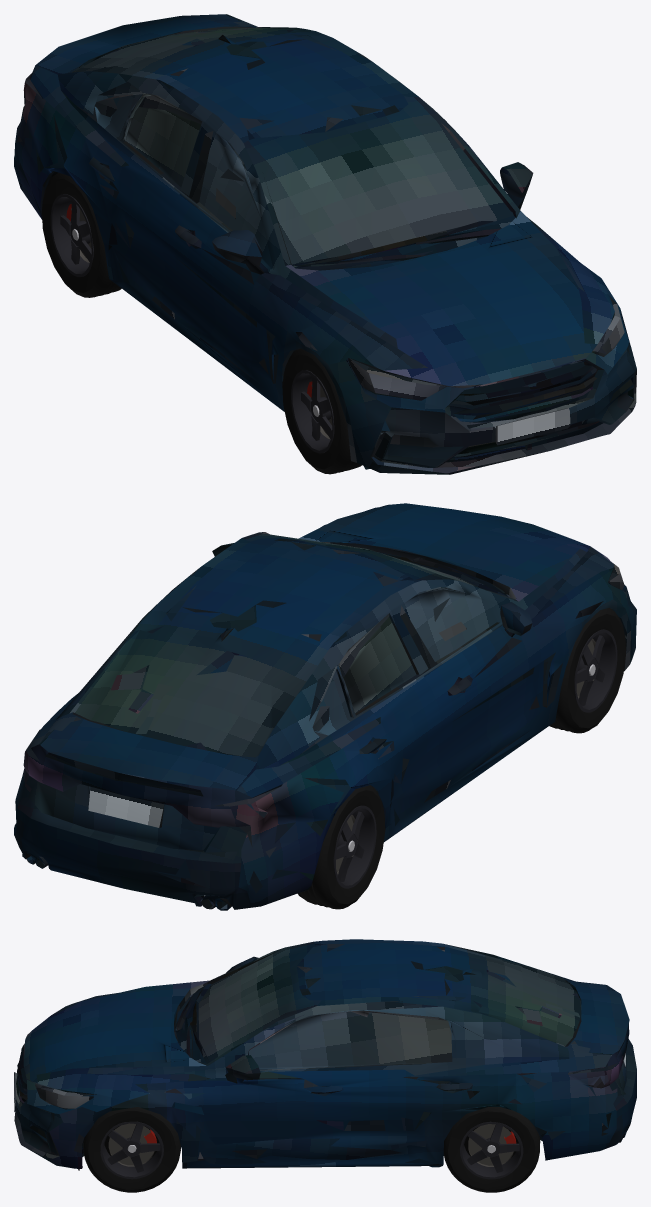
Rendered from limousine_m.glb.
3 renders of one model, top to bottom at view 1: azimuth 30°, elevation 25°; view 2: azimuth 150°, elevation 25°; view 3: azimuth 270°, elevation 25°, orthographic. The views are drawn at different scales.
Parts seen in each view (by area): view 1: karosserie, rad_vr, rad_hr; view 2: karosserie, rad_hr, rad_vr; view 3: karosserie, rad_hl, rad_vl.
Part boxes in pixels (left/top/right/bottom): karosserie: left=14, top=14, right=636, bottom=474; rad_vr: left=282, top=348, right=361, bottom=474; rad_hr: left=42, top=172, right=121, bottom=297; karosserie: left=14, top=503, right=636, bottom=910; rad_hr: left=297, top=785, right=385, bottom=909; rad_vr: left=549, top=608, right=625, bottom=733; karosserie: left=14, top=939, right=636, bottom=1170; rad_hl: left=443, top=1107, right=540, bottom=1192; rad_vl: left=83, top=1107, right=180, bottom=1192.
Bounding box in the file's own units: 2.11 × 1.51 × 4.85.
3 materials, 1 textured.
